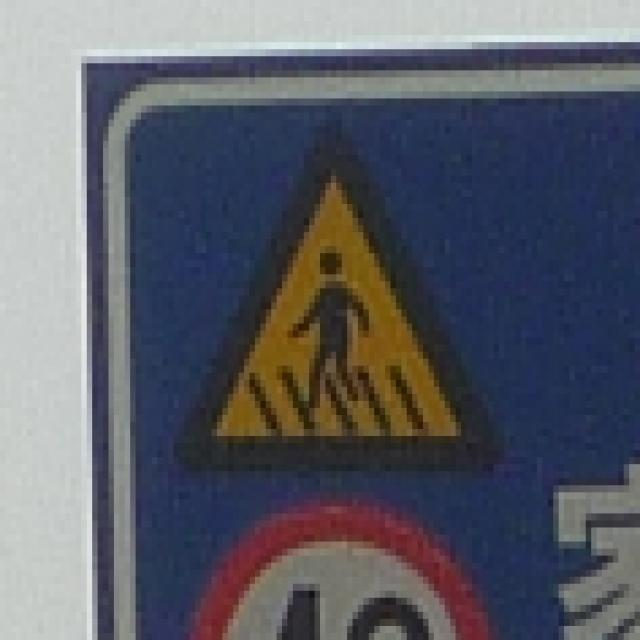Crossing: (142, 104, 532, 487)
